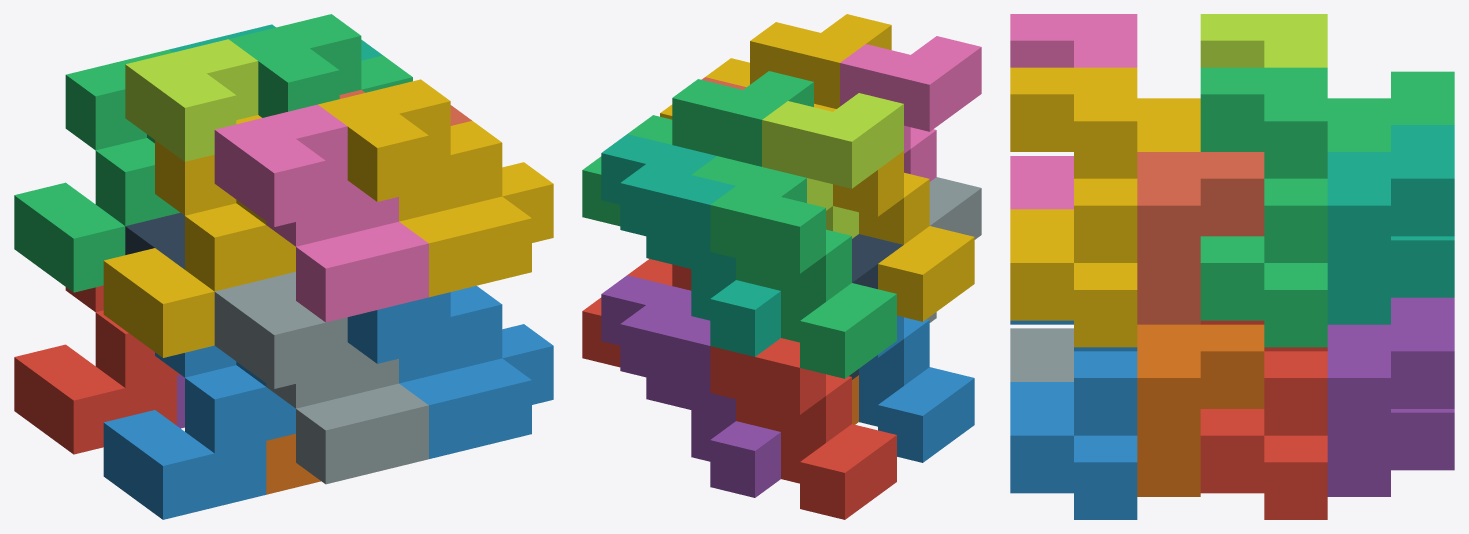
File: tiling.obj
The picture shows the model from 3 angles, left to right: view 1: azimuth 30°, elevation 25°; view 2: azimuth 150°, elevation 25°; view 3: azimuth 270°, elevation 25°; orthographic projection. The views are drawn at different scales.
Parts seen in each view (by area): view 1: copy_2_domain_8, copy_2_domain_4, copy_2_domain_2, copy_2_domain_6, copy_1_domain_2, copy_1_domain_4, copy_1_domain_3, copy_1_domain_1, copy_2_domain_3, copy_2_domain_7, copy_2_domain_1, copy_1_domain_6 (+1 smaller); view 2: copy_1_domain_3, copy_1_domain_1, copy_1_domain_7, copy_1_domain_5, copy_1_domain_4, copy_2_domain_3, copy_1_domain_2, copy_2_domain_4, copy_2_domain_7, copy_2_domain_8, copy_2_domain_5, copy_2_domain_2 (+1 smaller); view 3: copy_2_domain_8, copy_2_domain_7, copy_1_domain_5, copy_1_domain_7, copy_2_domain_6, copy_2_domain_5, copy_1_domain_6, copy_1_domain_8, copy_2_domain_4, copy_1_domain_3, copy_2_domain_3, copy_1_domain_4 (+1 smaller).
Part boxes in pixels (x1,y1,x2,y2): copy_2_domain_8: [318, 79, 553, 297]; copy_2_domain_4: [214, 104, 428, 322]; copy_2_domain_2: [214, 272, 428, 484]; copy_2_domain_6: [347, 286, 553, 458]; copy_1_domain_2: [103, 345, 295, 519]; copy_1_domain_4: [103, 115, 295, 357]; copy_1_domain_3: [14, 49, 179, 292]; copy_1_domain_1: [14, 285, 179, 454]; copy_2_domain_3: [125, 39, 258, 161]; copy_2_domain_7: [228, 14, 412, 117]; copy_2_domain_1: [125, 212, 184, 269]; copy_1_domain_6: [266, 433, 320, 494]; copy_1_domain_3: [691, 156, 896, 378]; copy_1_domain_1: [710, 338, 896, 519]; copy_1_domain_7: [601, 134, 780, 356]; copy_1_domain_5: [601, 275, 780, 497]; copy_1_domain_4: [814, 103, 974, 321]; copy_2_domain_3: [762, 93, 903, 238]; copy_1_domain_2: [859, 315, 974, 462]; copy_2_domain_4: [840, 36, 981, 181]; copy_2_domain_7: [582, 71, 813, 226]; copy_2_domain_8: [660, 14, 891, 119]; copy_2_domain_5: [582, 259, 691, 367]; copy_2_domain_2: [927, 177, 981, 322]; copy_2_domain_8: [1010, 67, 1137, 347]; copy_2_domain_7: [1200, 67, 1327, 347]; copy_1_domain_5: [1327, 297, 1454, 496]; copy_1_domain_7: [1327, 125, 1454, 324]; copy_2_domain_6: [1010, 320, 1137, 519]; copy_2_domain_5: [1200, 320, 1327, 519]; copy_1_domain_6: [1137, 324, 1264, 496]; copy_1_domain_8: [1137, 152, 1264, 324]; copy_2_domain_4: [1010, 14, 1137, 209]; copy_1_domain_3: [1327, 71, 1454, 151]; copy_2_domain_3: [1200, 14, 1327, 67]; copy_1_domain_4: [1137, 98, 1200, 151].
Bounding box in the file's own units: 7 × 7 × 7.
